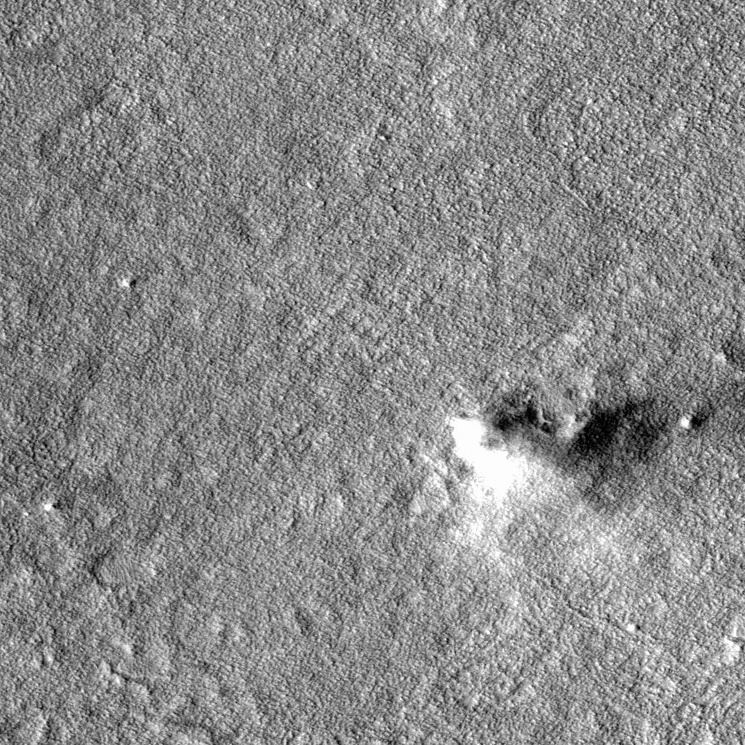dust_devil: (438, 392, 668, 557)
